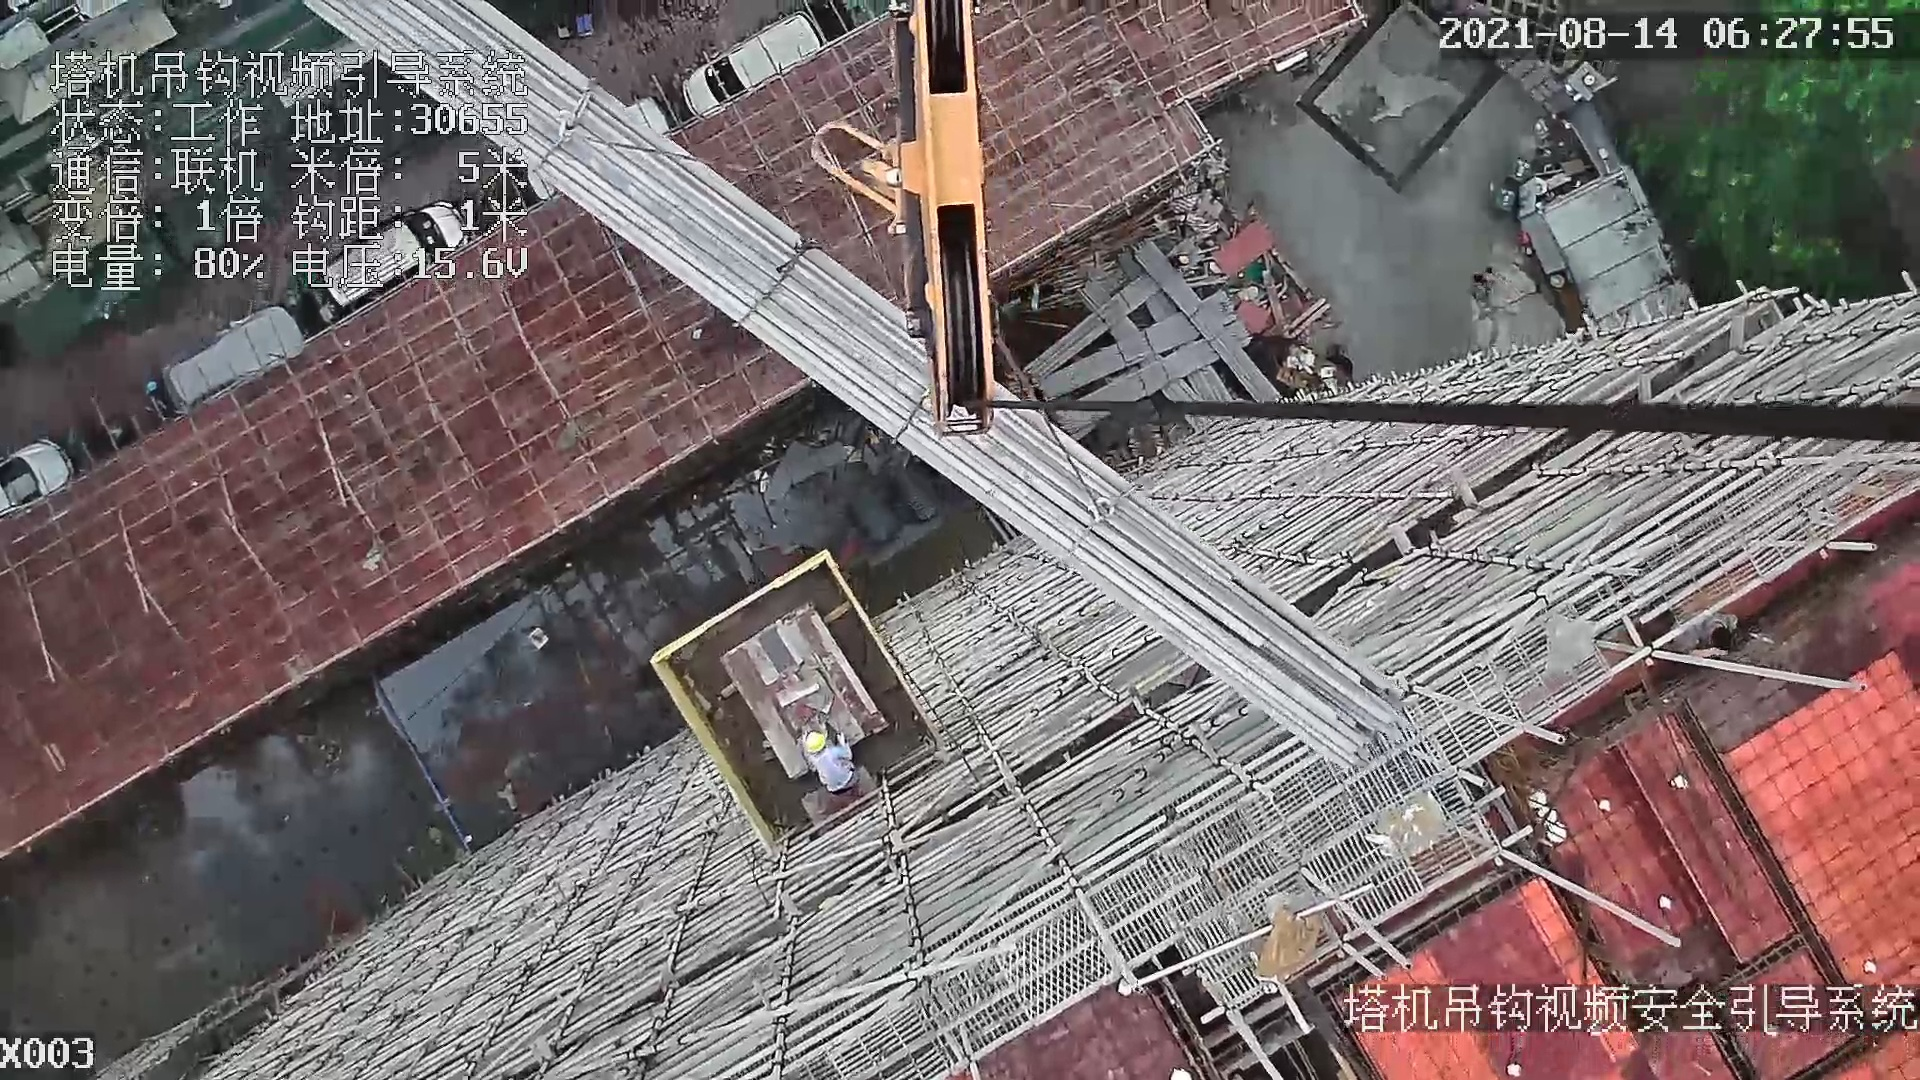helmet: (797, 716, 827, 759)
hook: (899, 1, 997, 439)
person: (803, 733, 871, 794)
